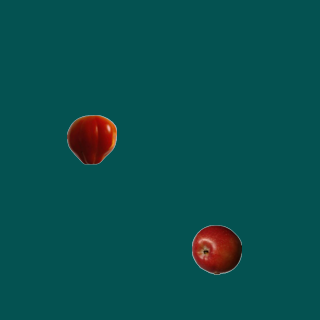Apple Braeburn: (191, 224, 241, 274)
Tomato 1: (66, 114, 116, 164)
